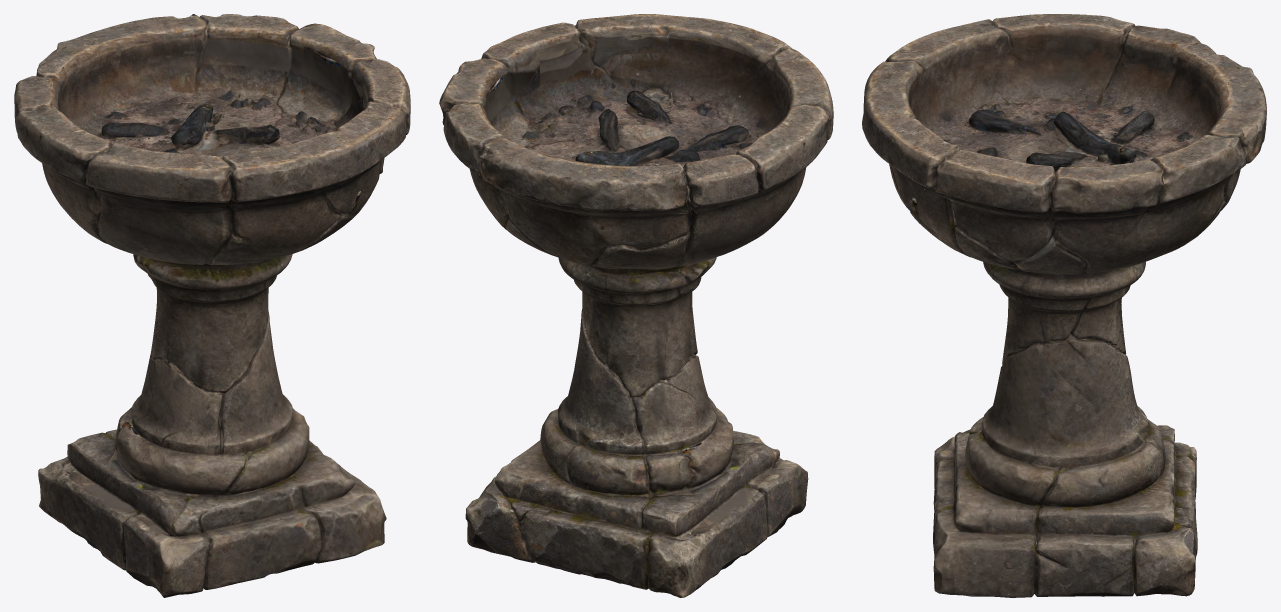
Rendered from Dungeon_lamp.glb.
3 views of the same model, side by side, from view 1: azimuth 30°, elevation 25°; view 2: azimuth 150°, elevation 25°; view 3: azimuth 270°, elevation 25° (orthographic). The views are drawn at different scales.
Visible parts, largest first — view 1: YVO3D.obj; view 2: YVO3D.obj; view 3: YVO3D.obj.
Part boxes in pixels (box(x1,y1,x2,y2)): YVO3D.obj: box(14, 14, 410, 597); YVO3D.obj: box(439, 14, 833, 597); YVO3D.obj: box(862, 14, 1266, 597).
Bounding box in the file's own units: 0.7909 × 0.9792 × 0.7906.
1 material, 1 textured.
